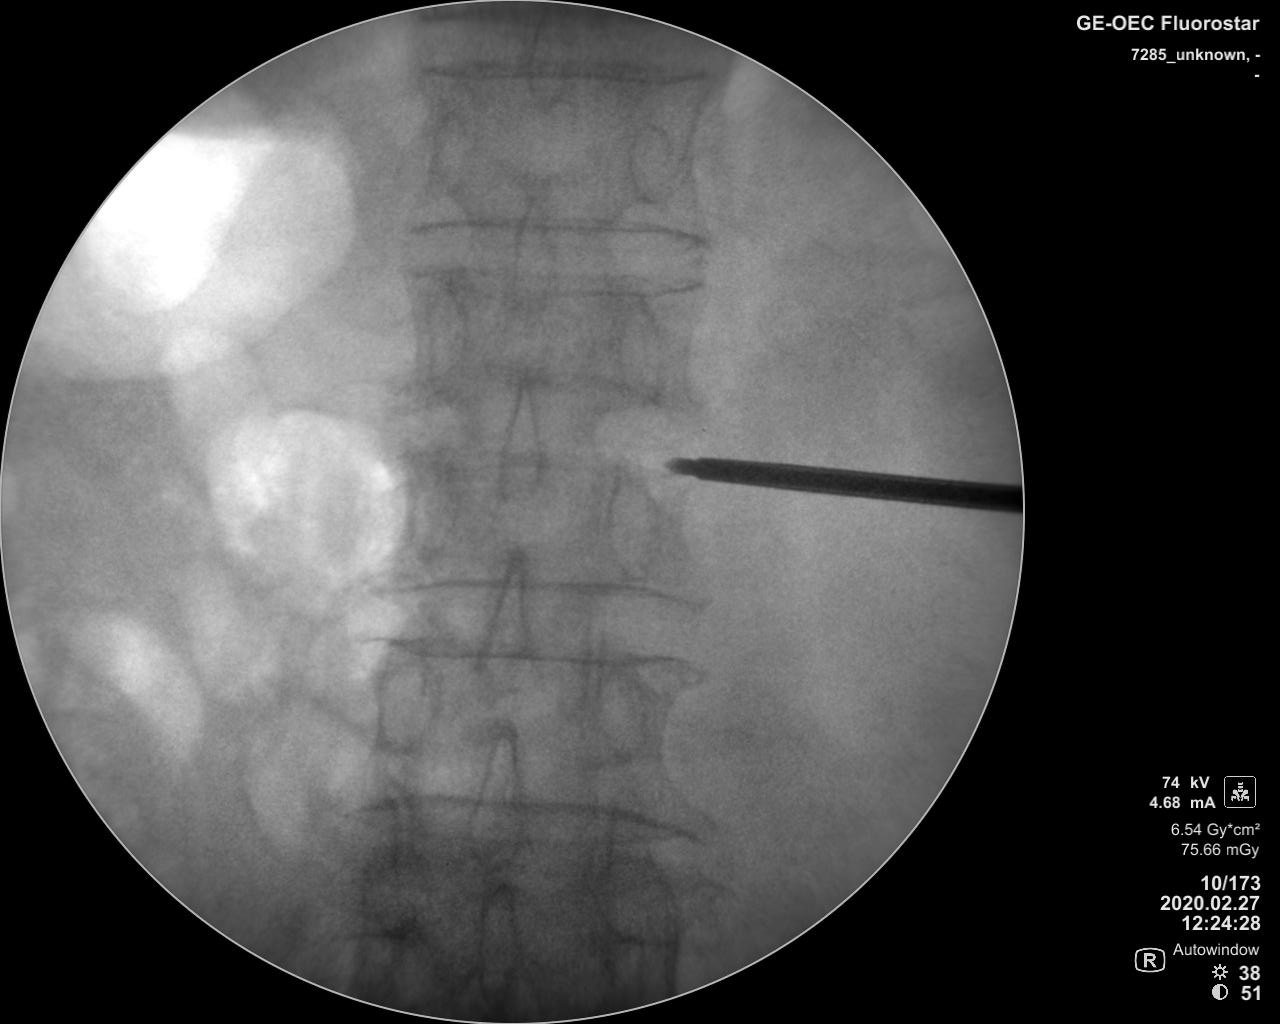eyes: (386, 267, 471, 386), (414, 80, 482, 195), (373, 639, 434, 759), (604, 462, 664, 582), (397, 452, 459, 562), (587, 662, 648, 765), (610, 296, 666, 402), (628, 118, 678, 208)
line: (344, 789, 696, 850), (402, 210, 719, 256), (376, 637, 717, 674), (382, 573, 703, 610), (405, 444, 679, 478), (405, 63, 718, 92)
nose: (464, 716, 528, 876), (476, 543, 531, 702), (493, 362, 550, 507), (511, 181, 561, 329), (473, 884, 525, 1010), (525, 2, 571, 112)
